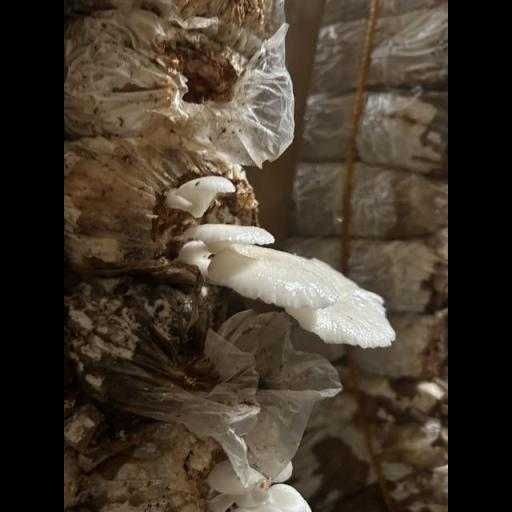White Oyster Mushroom: (172, 156, 403, 367)
